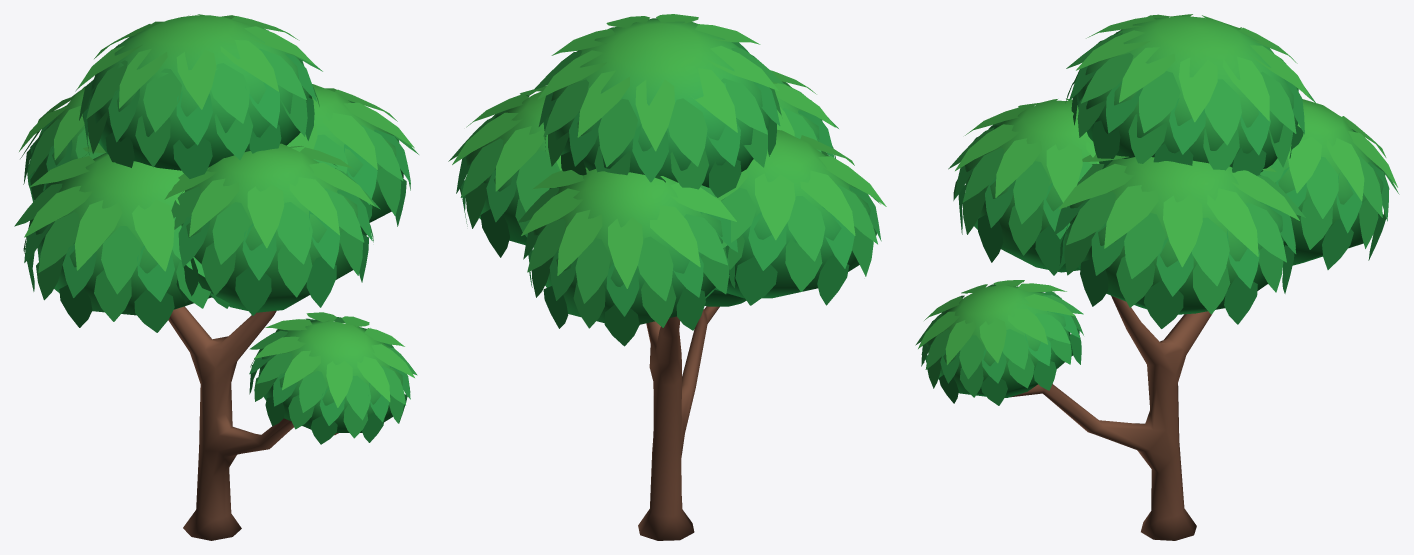
The model's file is Tree3.fbx.
3 renders of one model, left to right at view 1: azimuth 30°, elevation 25°; view 2: azimuth 150°, elevation 25°; view 3: azimuth 270°, elevation 25°, orthographic.
Visible parts, largest first — view 1: Cube.076, Cube.001; view 2: Cube.076, Cube.001; view 3: Cube.076, Cube.001.
Part boxes in pixels (x1,y1,x2,y2): Cube.076: (14,14,418,444); Cube.001: (168,306,338,540); Cube.076: (448,14,886,346); Cube.001: (638,306,719,540); Cube.076: (915,14,1399,405); Cube.001: (1005,295,1211,540).
Size of the model in its own units: 798 by 981 by 866.
